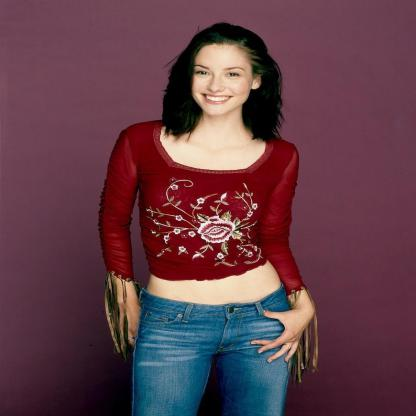long-hair: (140, 114, 299, 136)
